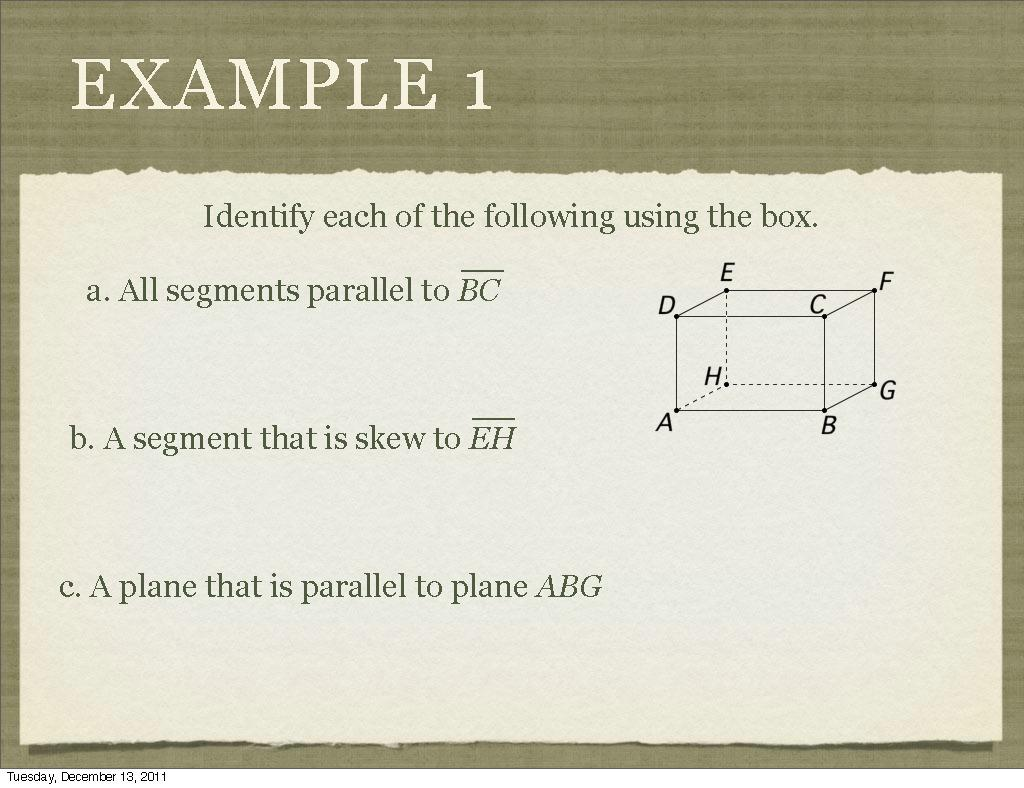paragraph: (51, 182, 942, 670)
title: (67, 42, 513, 135)
